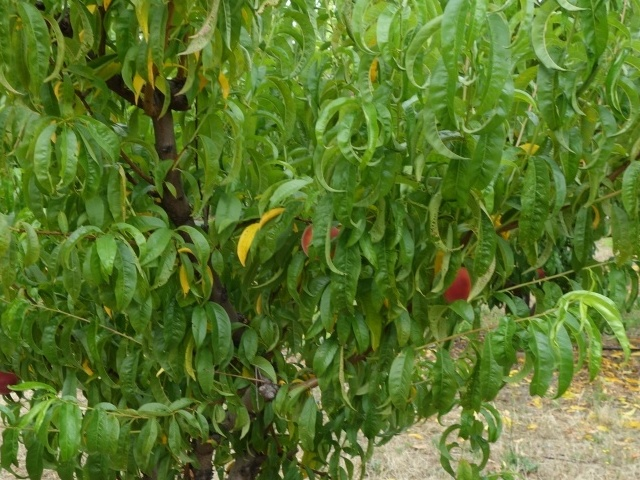peach: (296, 216, 343, 264), (437, 261, 473, 305), (1, 364, 25, 399)
